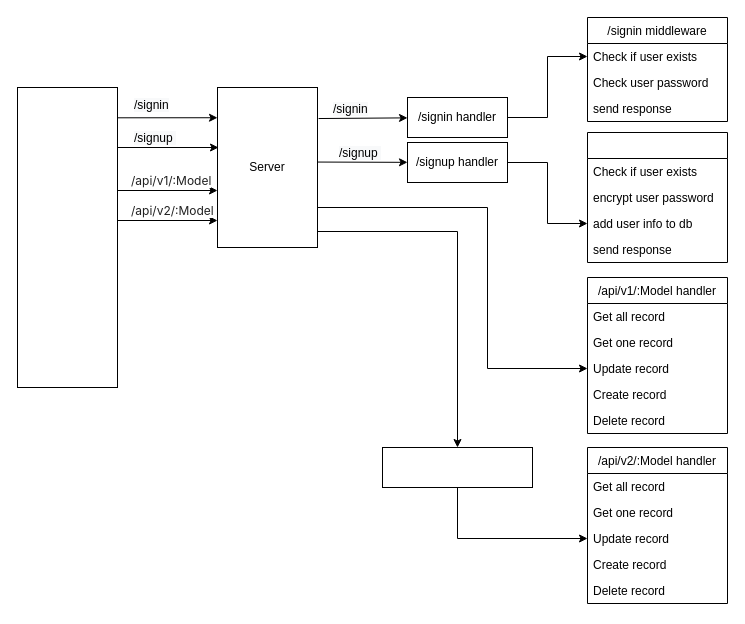
This 745x624 diagram has some shape labels left out. Here are the shapes that lost their labels. From the top down, the box of each, then its label:
(586, 132, 728, 262): /signup middleware
(16, 86, 118, 388): Client
(382, 446, 532, 488): Authorization handler
